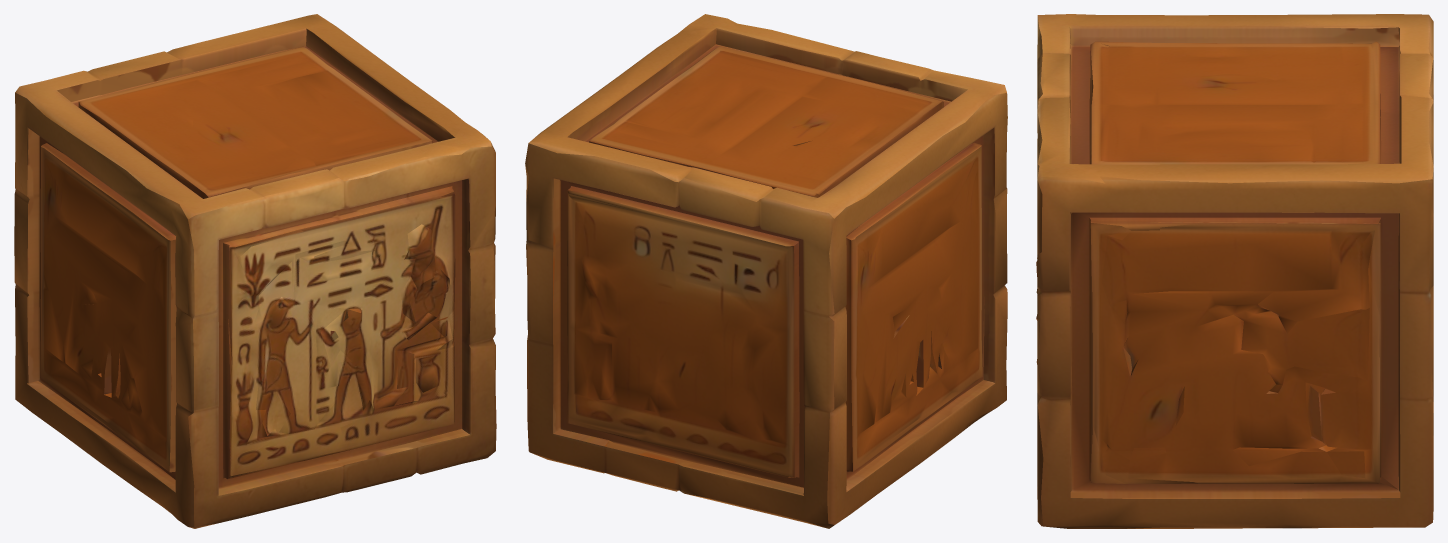
File: Wall.fbx
The picture shows the model from 3 angles, left to right: view 1: azimuth 30°, elevation 25°; view 2: azimuth 150°, elevation 25°; view 3: azimuth 270°, elevation 25°; orthographic projection. The views are drawn at different scales.
Visible parts, largest first — view 1: tmpdry86nla.ply; view 2: tmpdry86nla.ply; view 3: tmpdry86nla.ply.
Boxes of the visible parts, x1,y1,x2,y2 form: tmpdry86nla.ply: (14,14,496,528); tmpdry86nla.ply: (525,14,1007,528); tmpdry86nla.ply: (1036,14,1433,528).
Bounding box in the file's own units: 199 × 195 × 199.
Materials: 1 (1 with a texture image).
